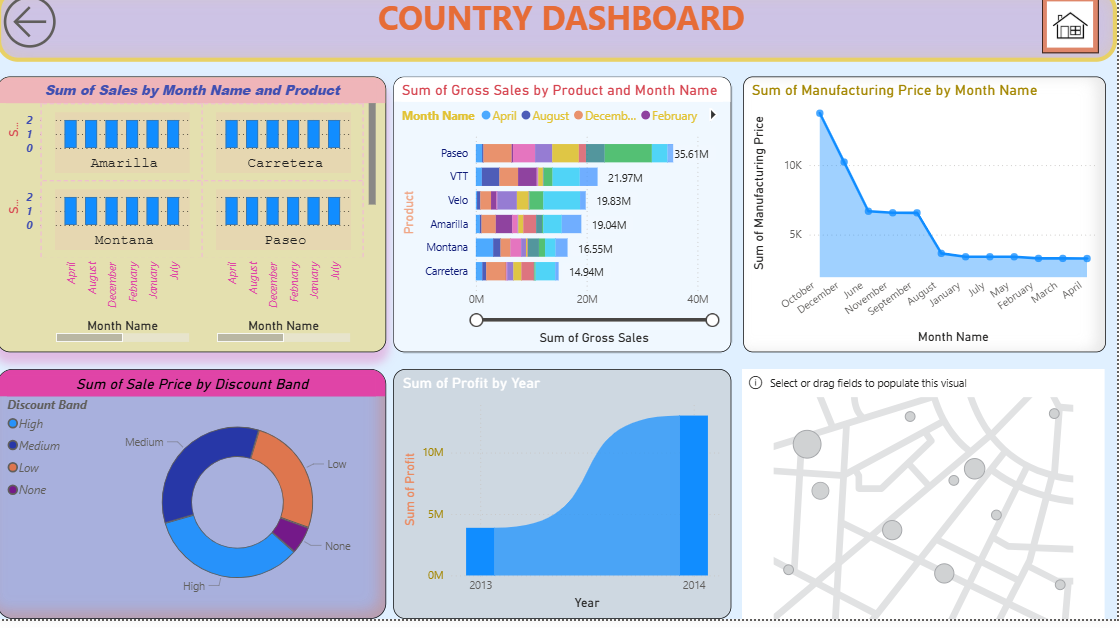

Layout of this report page (visuals, bound fields, positions):
{"tool":"powerbi","page":{"name":"east","canvas":[1280,720],"ordinal":2},"visuals":[{"type":"textbox","box":[0,0,1280,83.2],"z":0},{"type":"actionButton","box":[0,0,205.1,74.8],"z":1000},{"type":"columnChart","fields":{"Category":["Sheet1.Month Name"],"Y":["Sum(Sheet1.Sales)"],"Rows":["Sheet1.Product"]},"box":[0,100,444.4,315.6],"z":2000},{"type":"donutChart","fields":{"Category":["Sheet1.Discount Band"],"Y":["Sum(Sheet1.Sale Price)"]},"box":[0,434.4,444.4,285.6],"z":3000},{"type":"image","box":[1194.4,8.9,64.4,64.4],"z":4000},{"type":"barChart","fields":{"Category":["Sheet1.Product"],"Series":["Sheet1.Month Name"],"Y":["Sum(Sheet1.Gross Sales)"]},"box":[453.3,100,386.7,315.6],"z":5000},{"type":"ribbonChart","fields":{"Category":["Sheet1.Date.Variation.Date Hierarchy.Year","Sheet1.Date.Variation.Date Hierarchy.Quarter","Sheet1.Date.Variation.Date Hierarchy.Month","Sheet1.Date.Variation.Date Hierarchy.Day","Sheet1.Month Name","Sheet1.Product"],"Y":["Sum(Sheet1.Profit)"]},"box":[453.3,434.4,386.7,285.6],"z":5001},{"type":"areaChart","fields":{"Category":["Sheet1.Month Name"],"Y":["Sum(Sheet1.Manufacturing Price)"]},"box":[852.2,100,414.4,315.6],"z":5002},{"type":"map","box":[852,434,414,286],"z":5003}]}

Visuals, with their boxes in screenshot pixels (x1, y1, x2, y2), scaled from the page's 1280x720 canvas onto the 1120x628 screenshot:
textbox: left=0, top=0, right=1119, bottom=73
actionButton: left=0, top=0, right=179, bottom=65
columnChart - Sheet1.Month Name x Sum(Sheet1.Sales): left=0, top=87, right=389, bottom=362
donutChart - Sheet1.Discount Band x Sum(Sheet1.Sale Price): left=0, top=379, right=389, bottom=627
image: left=1045, top=8, right=1101, bottom=64
barChart - Sheet1.Product x Sheet1.Month Name: left=397, top=87, right=735, bottom=362
ribbonChart - Sheet1.Date.Variation.Date Hierarchy.Year x Sheet1.Date.Variation.Date Hierarchy.Quarter: left=397, top=379, right=735, bottom=627
areaChart - Sheet1.Month Name x Sum(Sheet1.Manufacturing Price): left=746, top=87, right=1108, bottom=362
map: left=746, top=379, right=1108, bottom=627
